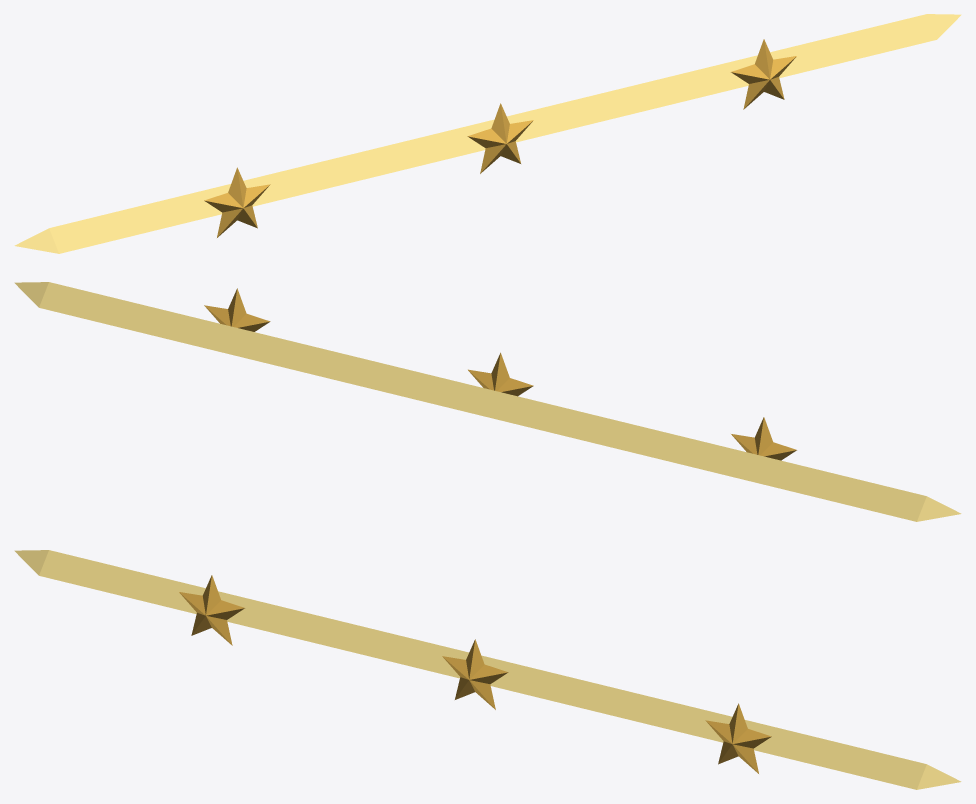
Rendered from fold_crease.glb.
The picture shows the model from 3 angles, top to bottom: view 1: azimuth 30°, elevation 25°; view 2: azimuth 150°, elevation 25°; view 3: azimuth 330°, elevation 25°; orthographic projection.
Parts seen in each view (by area): view 1: crease; view 2: crease; view 3: crease.
Boxes of the visible parts, x1=… form: crease: x1=14, y1=14, x2=961, y2=253; crease: x1=14, y1=282, x2=961, y2=521; crease: x1=14, y1=550, x2=961, y2=789.
Size of the model in its own units: 0.108 by 0.00724 by 0.0057.
